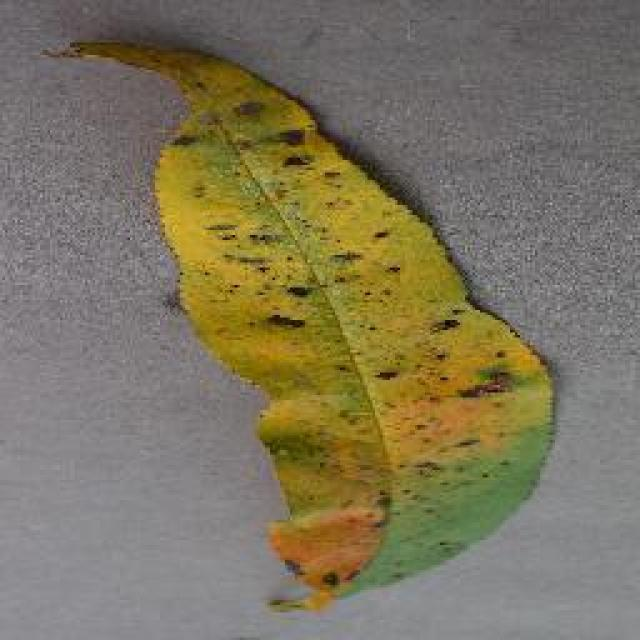Peach_Bacterial_Spot: (188, 94, 584, 468)
